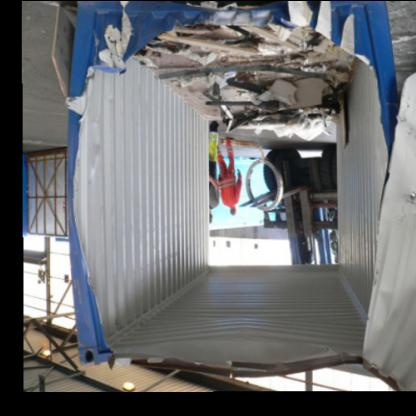Damage: (66, 1, 412, 390)
